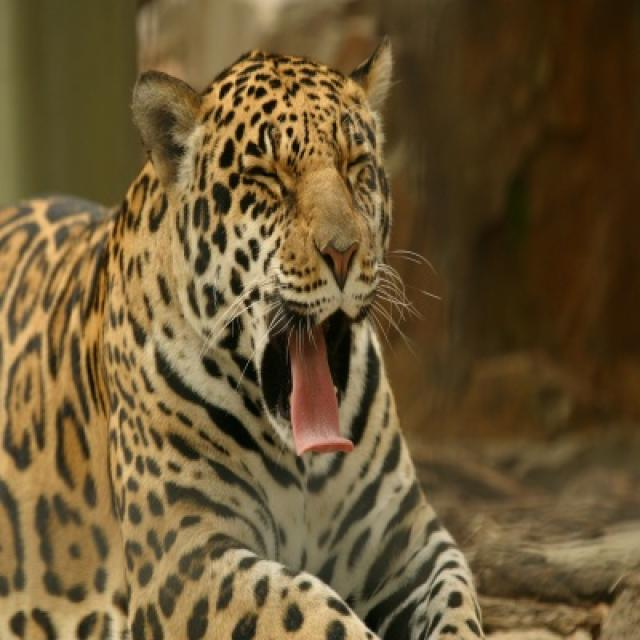Jaguar: (0, 40, 486, 638)
